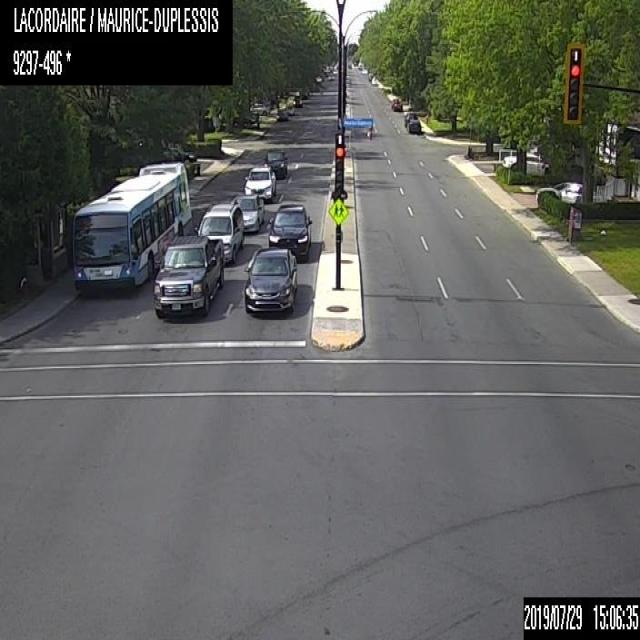bus: (71, 160, 195, 290)
vehicle: (154, 233, 228, 318), (243, 246, 297, 315), (198, 204, 244, 264), (267, 201, 313, 259), (536, 180, 602, 206), (240, 165, 276, 201), (228, 194, 264, 230), (502, 150, 550, 174), (160, 144, 197, 162), (265, 150, 291, 174), (248, 100, 270, 114), (406, 117, 421, 135), (403, 112, 417, 126), (276, 107, 290, 120), (292, 93, 302, 107), (391, 98, 402, 110), (284, 102, 294, 114)
